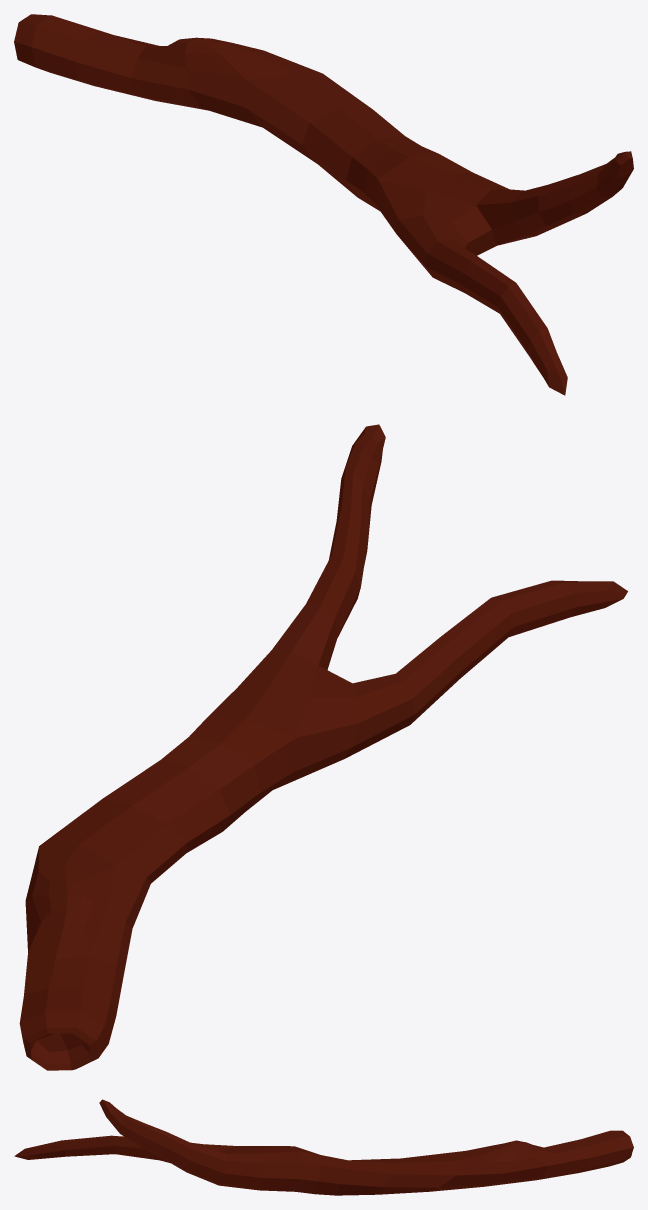
Rendered from log_2.gltf.
3 renders of one model, top to bottom at view 1: azimuth 30°, elevation 25°; view 2: azimuth 150°, elevation 25°; view 3: azimuth 270°, elevation 25°, orthographic. The views are drawn at different scales.
Parts seen in each view (by area): view 1: Log_2; view 2: Log_2; view 3: Log_2.
Boxes of the visible parts, box(x1,y1,x2,y2) form: Log_2: box(14, 14, 633, 395); Log_2: box(19, 424, 627, 1070); Log_2: box(14, 1099, 633, 1195).
Bounding box in the file's own units: 89.1 × 75.51 × 384.
